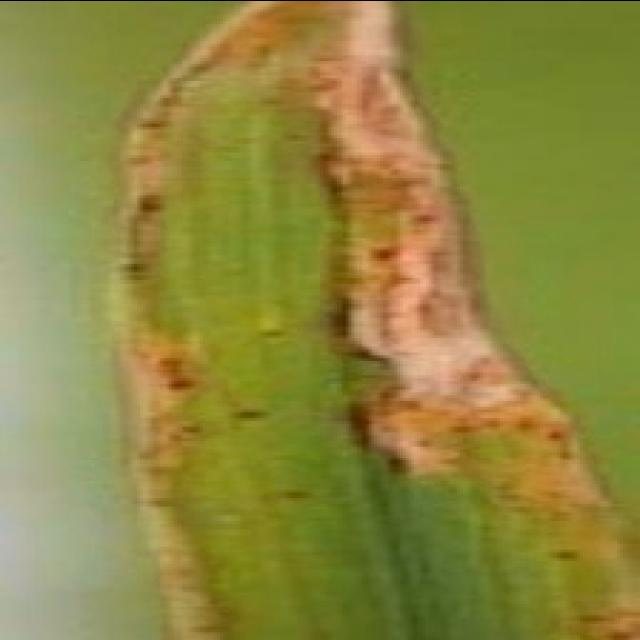Unhealthy: (183, 0, 573, 484), (118, 331, 225, 640), (109, 231, 163, 303), (557, 597, 640, 640), (114, 118, 169, 172), (130, 186, 168, 218), (233, 404, 274, 422), (277, 486, 318, 503), (545, 548, 580, 566), (258, 321, 287, 340)
